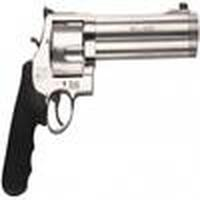gun: (4, 12, 200, 183)
